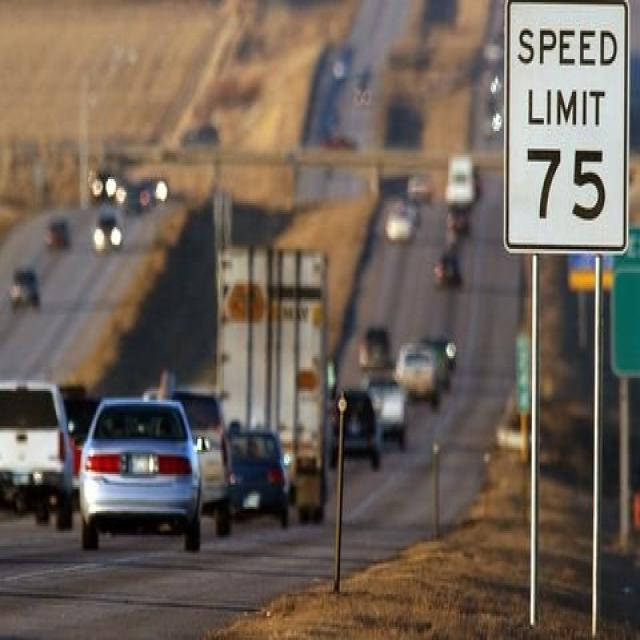speedLimit75: (505, 8, 627, 256)
